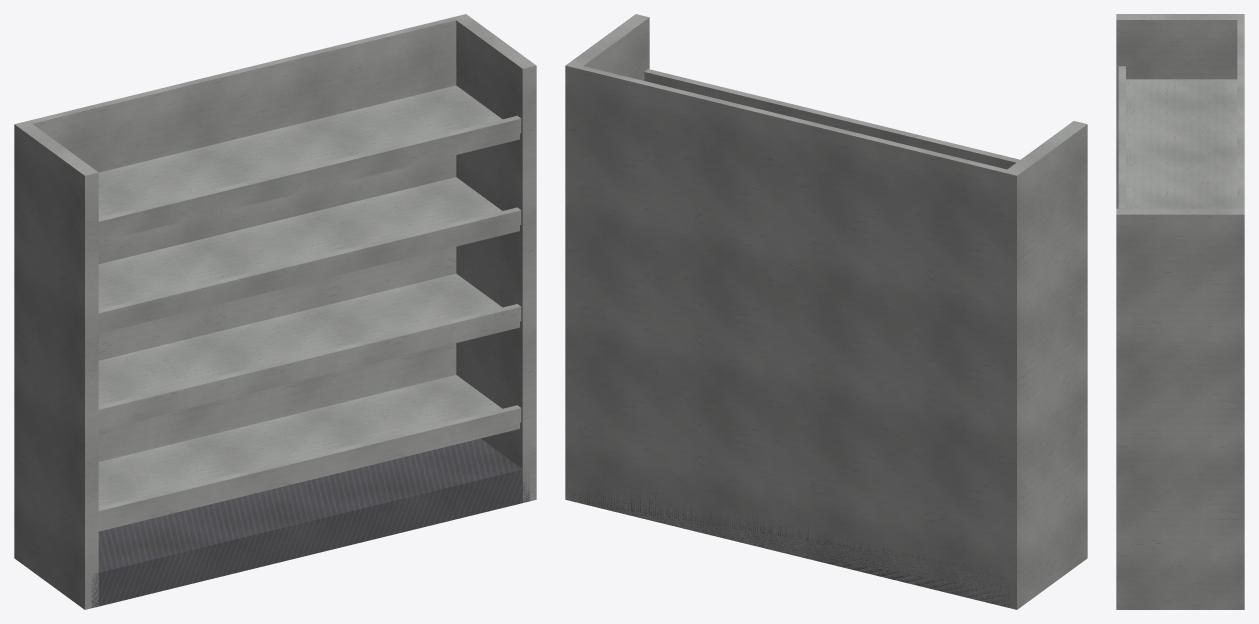
Rendered from shelf.glb.
The picture shows the model from 3 angles, left to right: view 1: azimuth 30°, elevation 25°; view 2: azimuth 150°, elevation 25°; view 3: azimuth 270°, elevation 25°; orthographic projection. The views are drawn at different scales.
Visible parts, largest first — view 1: NC_shelf; view 2: NC_shelf; view 3: NC_shelf.
Part boxes in pixels (x1,y1,x2,y2): NC_shelf: [14, 14, 536, 609]; NC_shelf: [565, 14, 1087, 609]; NC_shelf: [1116, 14, 1244, 609].
Size of the model in its own units: 1.96 by 1.8 by 0.53.
2 materials, 2 textured.
